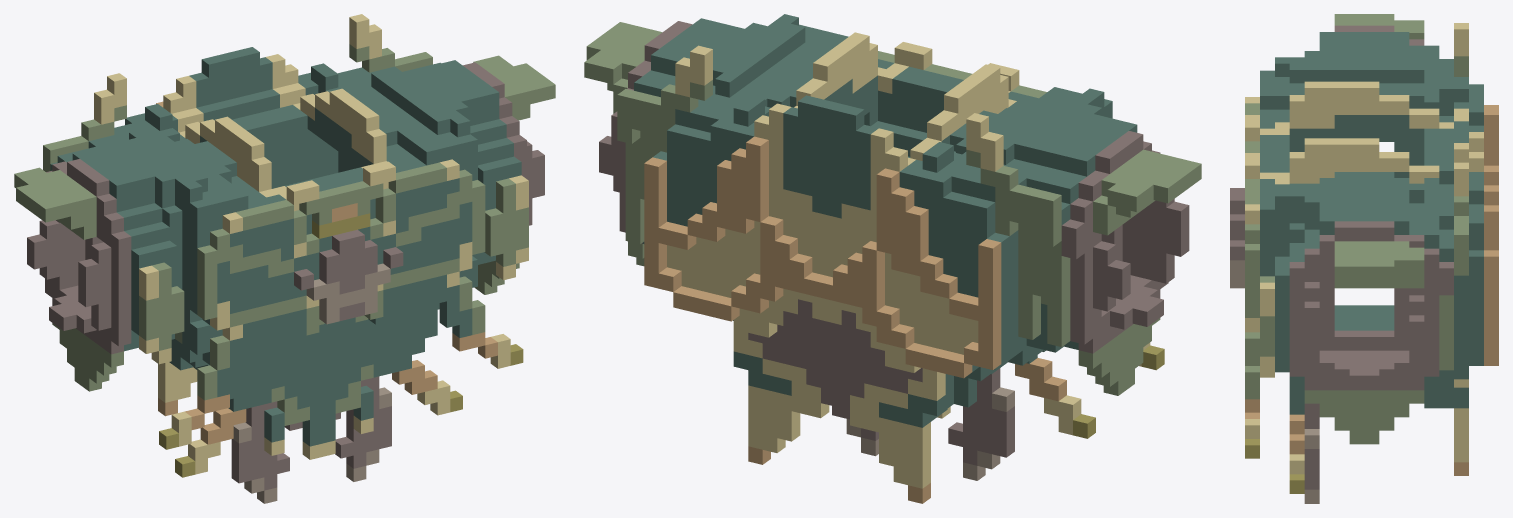
Rendered from PECHERAFANTASIA.obj.
3 renders of one model, left to right at view 1: azimuth 30°, elevation 25°; view 2: azimuth 150°, elevation 25°; view 3: azimuth 270°, elevation 25°, orthographic. The views are drawn at different scales.
Size of the model in its own units: 4 by 2.9 by 1.8.
1 material, 1 textured.
